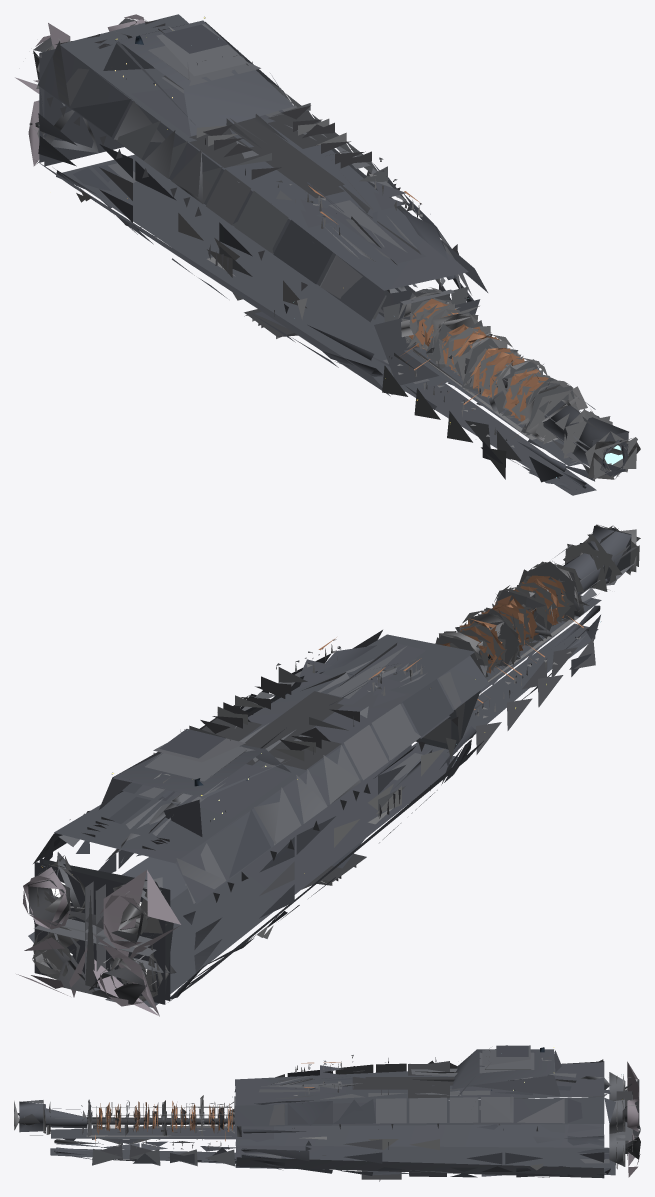
The model's file is ion_frigate_far.glb.
The picture shows the model from 3 angles, top to bottom: view 1: azimuth 30°, elevation 25°; view 2: azimuth 150°, elevation 25°; view 3: azimuth 270°, elevation 25°; orthographic projection. The views are drawn at different scales.
Visible parts, largest first — view 1: ion_frigate; view 2: ion_frigate; view 3: ion_frigate.
Part boxes in pixels (x1,y1,x2,y2): ion_frigate: [15, 14, 640, 495]; ion_frigate: [16, 524, 640, 1016]; ion_frigate: [14, 1045, 640, 1181].
Size of the model in its own units: 14.02 by 14.74 by 68.72.
